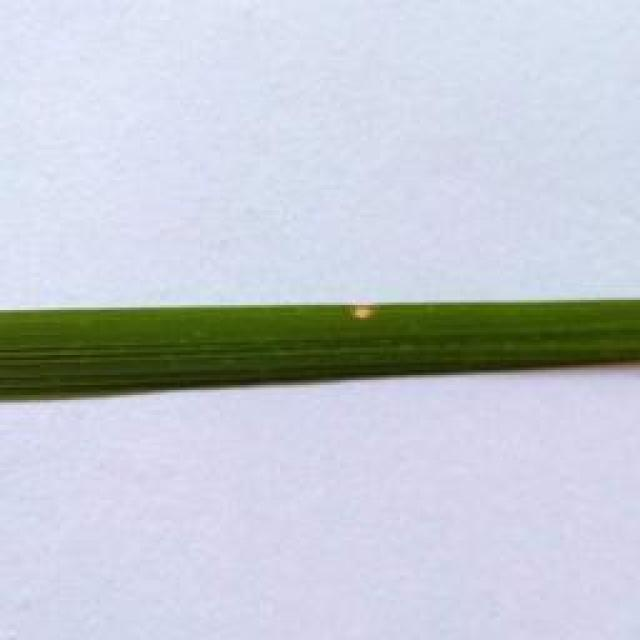Unhealthy: (344, 306, 379, 322)
